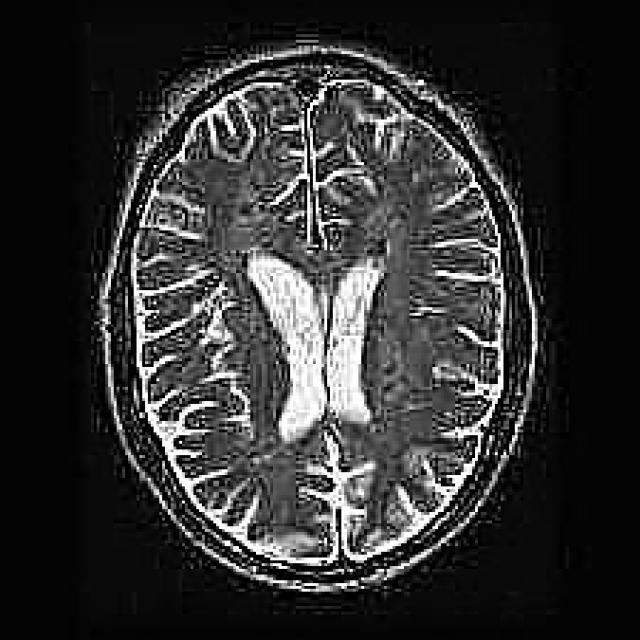notumor: (97, 43, 538, 597)
